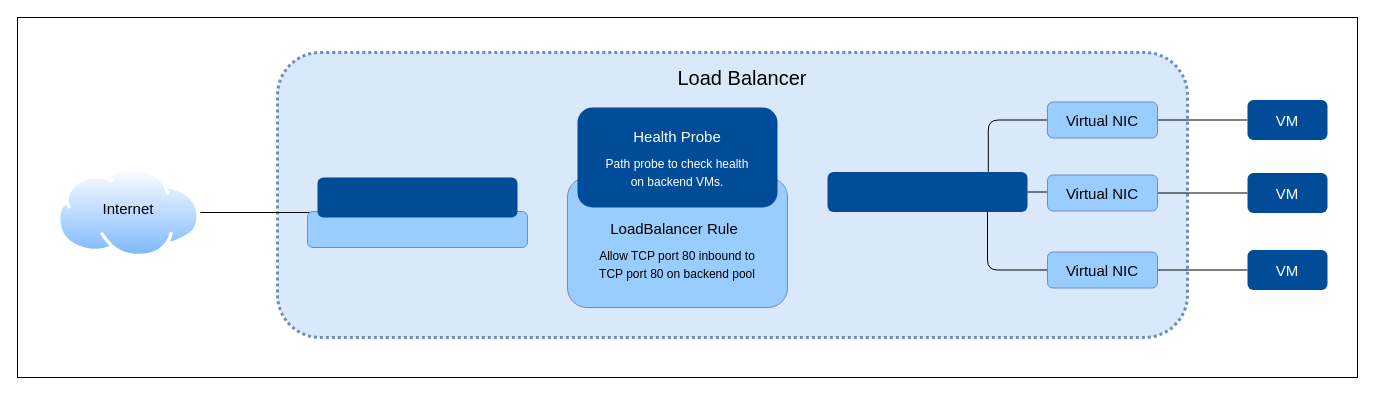
This 1375x395 diagram has some shape labels left out. The centre of each missing label's shape, as x and y in pixels:
Backend IP Pool: the point at 927,192
Frontend IP Pool: the point at 417,229
Public IP Address: the point at 417,197
